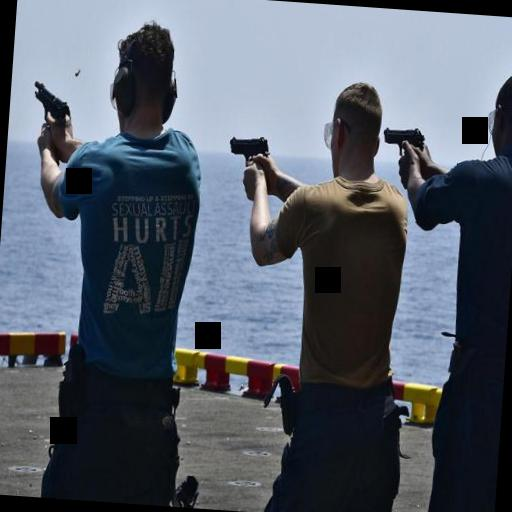Handgun: (27, 73, 74, 137), (378, 122, 426, 168), (224, 130, 272, 168)
